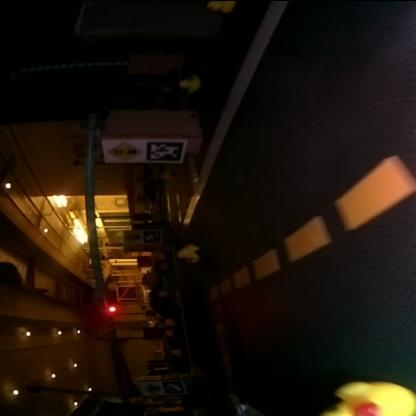Duckie: (326, 381, 406, 414), (178, 74, 200, 92), (205, 1, 234, 11), (178, 242, 196, 258)
QR code: (144, 138, 184, 158), (142, 229, 161, 242)
Signal sign: (106, 140, 140, 158), (122, 228, 140, 242)
Traffic light: (104, 306, 116, 312)
